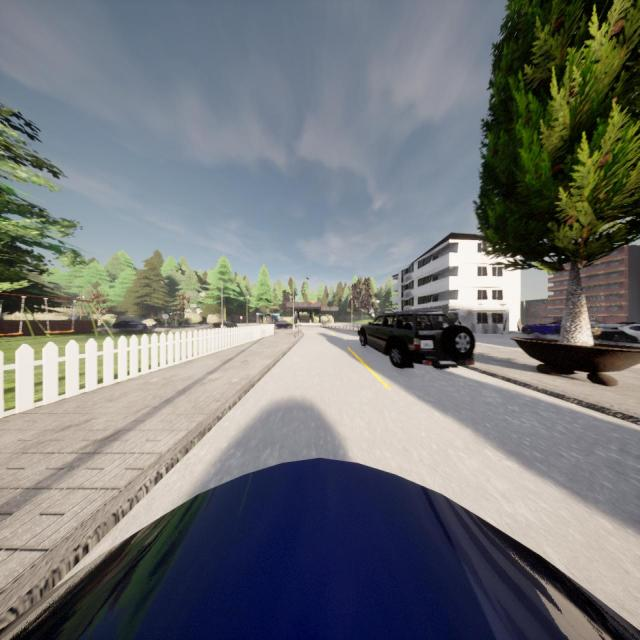Traffic_Signs: (162, 314, 169, 320), (240, 316, 242, 319)
Vehicle: (0, 457, 640, 640), (357, 310, 476, 370), (591, 322, 640, 346), (522, 320, 562, 335), (112, 320, 148, 331), (211, 320, 237, 328), (276, 320, 292, 329)
